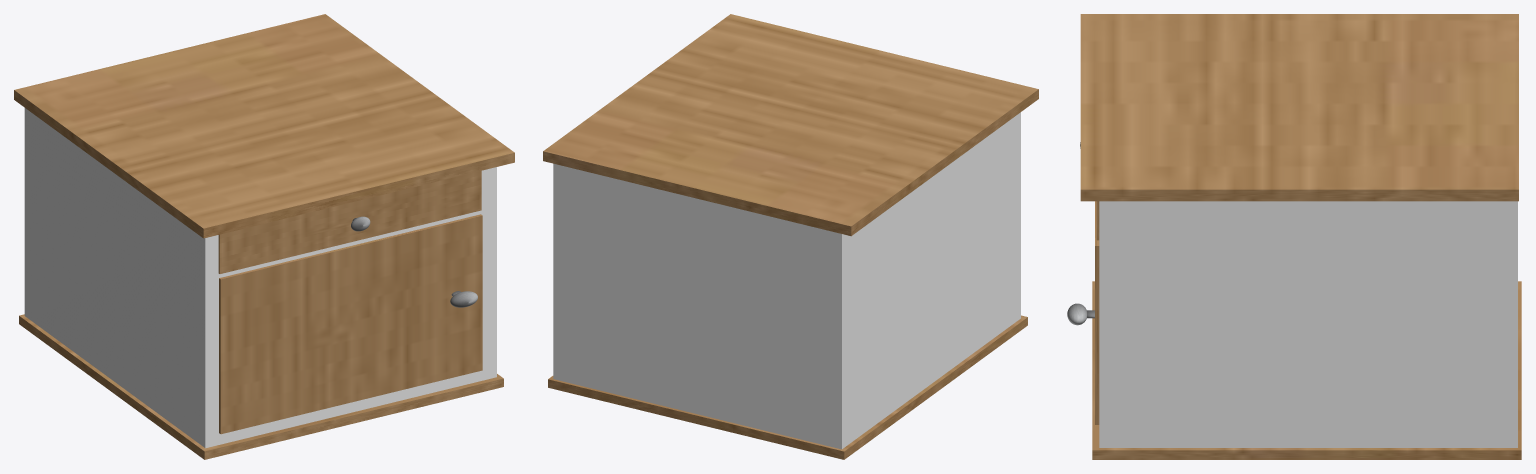
The model's file is Kitchen Unit 1 Door & Drawer (right).fbx.
3 views of the same model, side by side, from view 1: azimuth 30°, elevation 25°; view 2: azimuth 150°, elevation 25°; view 3: azimuth 270°, elevation 25° (orthographic). The views are drawn at different scales.
Visible parts, largest first — view 1: Counter, Base, Door 1, Door 2, Base.001; view 2: Base, Counter, Base.001; view 3: Base, Counter, Base.001, Door 1.
Boxes of the visible parts, x1,y1,x2,y2 form: Counter: (14,14,514,238); Base: (24,108,496,448); Door 1: (219,214,482,434); Door 2: (218,170,481,273); Base.001: (19,314,503,459); Base: (553,112,1020,449); Counter: (543,14,1038,236); Base.001: (548,315,1027,459); Base: (1099,201,1517,447); Counter: (1080,14,1518,201); Base.001: (1092,281,1521,459); Door 1: (1095,201,1099,424).
Bounding box in the file's own units: 0.8688 × 0.6306 × 0.9492.
